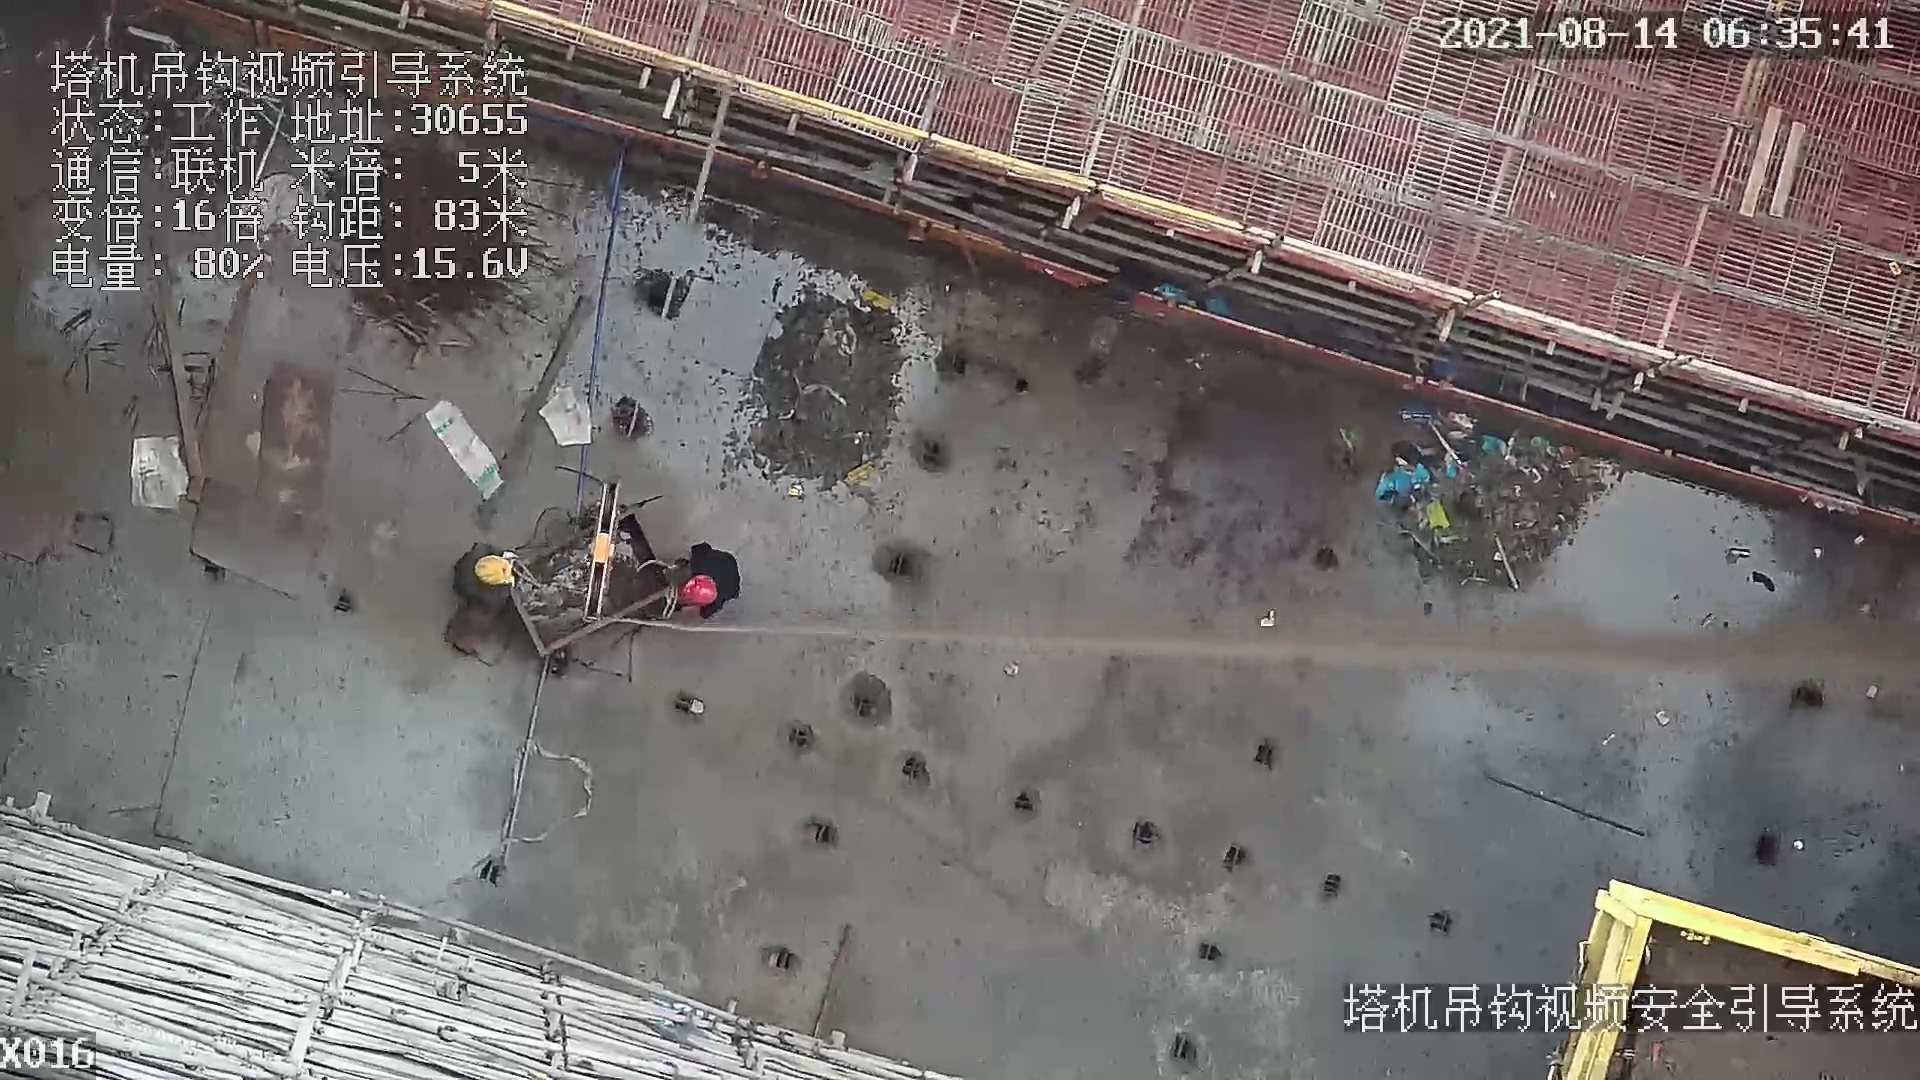helmet: (469, 555, 517, 589), (683, 573, 717, 613)
hook: (582, 476, 632, 626)
hopper: (508, 478, 663, 686)
person: (664, 537, 750, 621), (449, 537, 528, 613)
